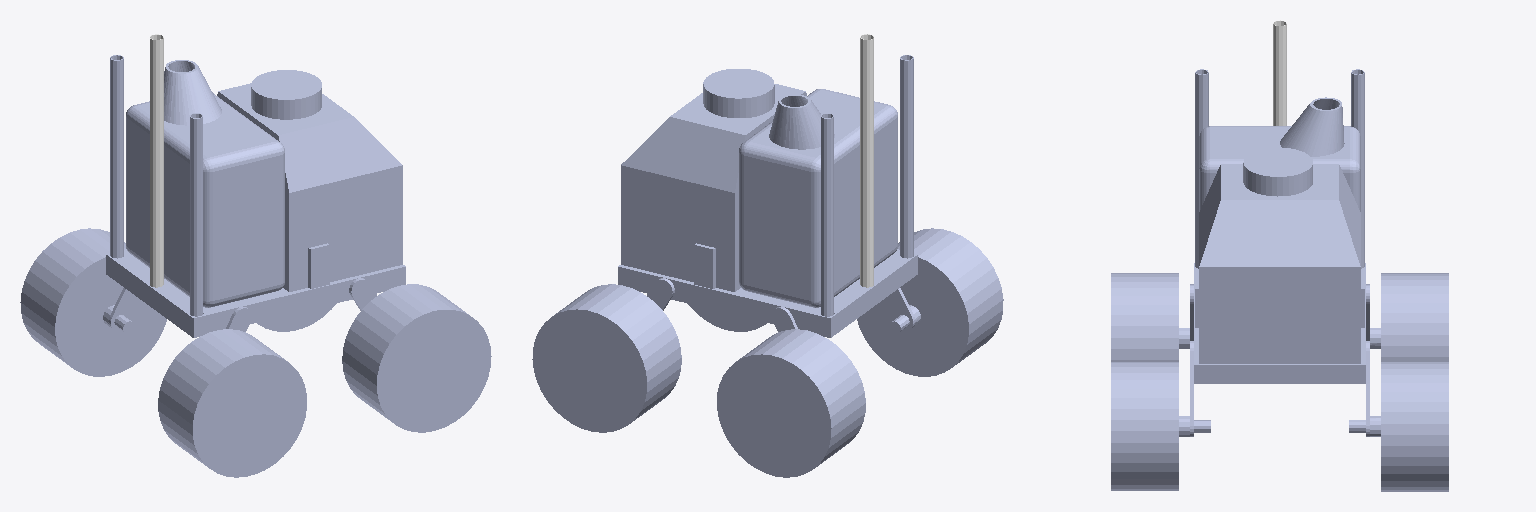
The robot description file, URDF, robot "robot":
<?xml version="1.0"?>
<!-- This URDF was automatically created by SolidWorks to URDF Exporter! Originally created by [author] ([email redacted]) 
     Commit Version: 1.6.0-4-g7f85cfe  Build Version: 1.6.7995.38578
     For more information, please see http://wiki.ros.org/sw_urdf_exporter -->
<robot name="robot">
  <link
    name="base_link">
    <inertial>
      <origin
        xyz="-0.011623 0.00031297 0.03414"
        rpy="0 0 0" />
      <mass
        value="1.03" />
      <inertia
        ixx="0.0031032"
        ixy="3.2221E-10"
        ixz="7.7859E-06"
        iyy="0.004193"
        iyz="-3.2649E-05"
        izz="0.0055868" />
    </inertial>
    <visual>
      <origin
        xyz="0 0 0"
        rpy="0 0 0" />
      <geometry>
        <mesh
          filename="package://modelo_robot/meshes/base_link.STL" />
      </geometry>
      <material
        name="">
        <color
          rgba="0.79216 0.81961 0.93333 1" />
      </material>
    </visual>
    <collision>
      <origin
        xyz="0 0 0"
        rpy="0 0 0" />
      <geometry>
        <mesh
          filename="package://modelo_robot/meshes/base_link.STL" />
      </geometry>
    </collision>
  </link>
  
  <gazebo reference="base_link">
    <mu1>0.001</mu1>
    <mu2>0.001</mu2>
    <kp>1000000</kp>
    <kd>1</kd>
    <material>Gazebo/Yellow</material>
  </gazebo>
  
  <link
    name="rueda_izq_delantera_link">
    <inertial>
      <origin
        xyz="0 0 -0.00031672"
        rpy="0 0 0" />
      <mass
        value="0.72984" />
      <inertia
        ixx="0.00091283"
        ixy="-8.021E-20"
        ixz="-4.0426E-21"
        iyy="0.00091283"
        iyz="-1.7102E-20"
        izz="0.001326" />
    </inertial>
    <visual>
      <origin
        xyz="0 0 0"
        rpy="0 0 0" />
      <geometry>
        <mesh
          filename="package://modelo_robot/meshes/rueda_izq_delantera_link.STL" />
      </geometry>
      <material
        name="">
        <color
          rgba="0.79216 0.81961 0.93333 1" />
      </material>
    </visual>
    <collision>
      <origin
        xyz="0 0 0"
        rpy="0 0 0" />
      <geometry>
        <mesh
          filename="package://modelo_robot/meshes/rueda_izq_delantera_link.STL" />
      </geometry>
    </collision>
  </link>
  <joint
    name="rueda_izq_delantera_joint"
    type="continuous">
    <origin
      xyz="0.097 0.1255 -0.050622"
      rpy="1.5708 0 3.1416" />
    <parent
      link="base_link" />
    <child
      link="rueda_izq_delantera_link" />
    <axis
      xyz="0 0 1" />
    <limit
      effort="100"
      velocity="100" />
    <dynamics
      damping="0.1"
      friction="0.1" />
  </joint>
  
  <gazebo reference="rueda_izq_delantera_link">
    <mu1>0.001</mu1>
    <mu2>0.001</mu2>
    <kp>1000000</kp>
    <kd>1</kd>
    <material>Gazebo/Gray</material>
  </gazebo>
  
  <link
    name="rueda_izq_trasera_link">
    <inertial>
      <origin
        xyz="0 0 -0.00031672"
        rpy="0 0 0" />
      <mass
        value="0.72984" />
      <inertia
        ixx="0.00091283"
        ixy="5.3323E-20"
        ixz="-7.9882E-20"
        iyy="0.00091283"
        iyz="3.104E-21"
        izz="0.001326" />
    </inertial>
    <visual>
      <origin
        xyz="0 0 0"
        rpy="0 0 0" />
      <geometry>
        <mesh
          filename="package://modelo_robot/meshes/rueda_izq_trasera_link.STL" />
      </geometry>
      <material
        name="">
        <color
          rgba="0.79216 0.81961 0.93333 1" />
      </material>
    </visual>
    <collision>
      <origin
        xyz="0 0 0"
        rpy="0 0 0" />
      <geometry>
        <mesh
          filename="package://modelo_robot/meshes/rueda_izq_trasera_link.STL" />
      </geometry>
    </collision>
  </link>
  
  <gazebo reference="rueda_izq_trasera_link">
    <mu1>0.001</mu1>
    <mu2>0.001</mu2>
    <kp>1000000</kp>
    <kd>1</kd>
    <material>Gazebo/Gray</material>
  </gazebo>
  
  <joint
    name="rueda_izq_trasera_joint"
    type="continuous">
    <origin
      xyz="-0.097 0.1255 -0.050622"
      rpy="1.5708 0 3.1416" />
    <parent
      link="base_link" />
    <child
      link="rueda_izq_trasera_link" />
    <axis
      xyz="0 0 1" />
    <limit
      effort="100"
      velocity="100" />
    <dynamics
      damping="0.1"
      friction="0.1" />
  </joint>
  <link
    name="rueda_der_delantera_link">
    <inertial>
      <origin
        xyz="0 0 0.00031672"
        rpy="0 0 0" />
      <mass
        value="0.72984" />
      <inertia
        ixx="0.00091283"
        ixy="-2.8979E-21"
        ixz="-1.0167E-19"
        iyy="0.00091283"
        iyz="-2.7079E-20"
        izz="0.001326" />
    </inertial>
    <visual>
      <origin
        xyz="0 0 0"
        rpy="0 0 0" />
      <geometry>
        <mesh
          filename="package://modelo_robot/meshes/rueda_der_delantera_link.STL" />
      </geometry>
      <material
        name="">
        <color
          rgba="0.79216 0.81961 0.93333 1" />
      </material>
    </visual>
    <collision>
      <origin
        xyz="0 0 0"
        rpy="0 0 0" />
      <geometry>
        <mesh
          filename="package://modelo_robot/meshes/rueda_der_delantera_link.STL" />
      </geometry>
    </collision>
  </link>
  
  <gazebo reference="rueda_der_delantera_link">
    <mu1>0.001</mu1>
    <mu2>0.001</mu2>
    <kp>1000000</kp>
    <kd>1</kd>
    <material>Gazebo/Gray</material>
  </gazebo>
  
  <joint
    name="rueda_der_delantera_joint"
    type="continuous">
    <origin
      xyz="0.097 -0.1255 -0.050622"
      rpy="1.5708 0 3.1416" />
    <parent
      link="base_link" />
    <child
      link="rueda_der_delantera_link" />
    <axis
      xyz="0 0 1" />
    <limit
      effort="100"
      velocity="100" />
    <dynamics
      damping="0.1"
      friction="0.1" />
  </joint>
  
  <link
    name="rueda_der_trasera_link">
    <inertial>
      <origin
        xyz="0 0 0.00031672"
        rpy="0 0 0" />
      <mass
        value="0.72984" />
      <inertia
        ixx="0.00091283"
        ixy="2.3222E-20"
        ixz="-6.9829E-20"
        iyy="0.00091283"
        iyz="6.4782E-20"
        izz="0.001326" />
    </inertial>
    <visual>
      <origin
        xyz="0 0 0"
        rpy="0 0 0" />
      <geometry>
        <mesh
          filename="package://modelo_robot/meshes/rueda_der_trasera_link.STL" />
      </geometry>
      <material
        name="">
        <color
          rgba="0.79216 0.81961 0.93333 1" />
      </material>
    </visual>
    <collision>
      <origin
        xyz="0 0 0"
        rpy="0 0 0" />
      <geometry>
        <mesh
          filename="package://modelo_robot/meshes/rueda_der_trasera_link.STL" />
      </geometry>
    </collision>
  </link>
  
  <gazebo reference="rueda_der_trasera_link">
    <mu1>0.001</mu1>
    <mu2>0.001</mu2>
    <kp>1000000</kp>
    <kd>1</kd>
    <material>Gazebo/Gray</material>
  </gazebo>
  
  <joint
    name="rueda_der_trasera_joint"
    type="continuous">
    <origin
      xyz="-0.097 -0.1255 -0.050622"
      rpy="1.5708 0 3.1416" />
    <parent
      link="base_link" />
    <child
      link="rueda_der_trasera_link" />
    <axis
      xyz="0 0 1" />
    <limit
      effort="100"
      velocity="100" />
    <dynamics
      damping="0.1"
      friction="0.1" />
  </joint>
  <link
    name="apersor_link">
    <inertial>
      <origin
        xyz="0 0 0"
        rpy="0 0 0" />
      <mass
        value="0.3" />
      <inertia
        ixx="0.001"
        ixy="0"
        ixz="0"
        iyy="0.001"
        iyz="0"
        izz="0.001" />
    </inertial>
    <visual>
      <origin
        xyz="0 0 0"
        rpy="0 0 0" />
      <geometry>
        <mesh
          filename="package://modelo_robot/meshes/apersor_link.STL" />
      </geometry>
      <material
        name="">
        <color
          rgba="1 1 1 1" />
      </material>
    </visual>
    <collision>
      <origin
        xyz="0 0 0"
        rpy="0 0 0" />
      <geometry>
        <mesh
          filename="package://modelo_robot/meshes/apersor_link.STL" />
      </geometry>
    </collision>
  </link>
  <joint
    name="aspersor_joint"
    type="revolute">
    <origin
      xyz="-0.1045 0 0.019"
      rpy="1.5708 0 3.1416" />
    <parent
      link="base_link" />
    <child
      link="apersor_link" />
    <axis
      xyz="0 0 1" />
    <limit
      lower="0"
      upper="0"
      effort="0"
      velocity="100" />
    <dynamics
      damping="0.1"
      friction="0.1" />
  </joint>
  <link name="lindar_link">
    <inertial>
      <origin xyz="-2.7756E-17 0.01 0" rpy="0 0 0" />
      <mass value="0.066366" />
      <inertia
        ixx="1.9737E-05"
        ixy="-2.8234E-22"
        ixz="-2.8411E-21"
        iyy="3.505E-05"
        iyz="-1.4117E-22"
        izz="1.9737E-05" />
    </inertial>
    <visual>
      <origin xyz="0 0 0" rpy="0 0 0" />
      <geometry>
        <mesh filename="package://modelo_robot/meshes/lindar_link.STL" />
      </geometry>
      <material name="">
        <color rgba="0.79216 0.81961 0.93333 1" />
      </material>
    </visual>
    <collision>
      <origin xyz="0 0 0" rpy="0 0 0" />
      <geometry>
        <mesh filename="package://modelo_robot/meshes/lindar_link.STL" />
      </geometry>
    </collision>
  </link>
  
  <gazebo reference="lindar_link">
    <material>Gazebo/Blue</material>
  </gazebo>
  
  <joint name="lidar_frame" type="fixed">
    <origin xyz="0.031539 -0.0015685 0.17" rpy="1.5708 0 3.1416" />
    <parent link="base_link" />
    <child link="lindar_link" />
    <axis xyz="0 0 0" />
  </joint>


    <!-- Gazebo Plugins -->
    <gazebo>
        <plugin name="diff_drive" filename="libgazebo_ros_diff_drive.so">
            <update_rate>100</update_rate>
            <num_wheel_pairs>2</num_wheel_pairs>
            <!-- Wheel Information -->
            <left_joint>rueda_izq_trasera_joint</left_joint>
            <left_joint>rueda_izq_delantera_joint</left_joint>
            <right_joint>rueda_der_trasera_joint</right_joint>
            <right_joint>rueda_der_delantera_joint</right_joint>
            <wheel_separation>0.20</wheel_separation>
            <wheel_radius>0.122</wheel_radius>

            <!-- Limits -->
            <max_linear_acceleration>5</max_linear_acceleration>
            <min_linear_acceleration>-5</min_linear_acceleration>
            <max_angular_acceleration>4</max_angular_acceleration>
            <min_angular_acceleration>-4</min_angular_acceleration>

            <!-- Receive velocity commands on this ROS topic -->
            <command_topic>cmd_vel</command_topic>
      
            <!-- output -->
            <!-- When false, publish no wheel odometry data to a ROS topic -->
            <publish_odom>true</publish_odom>
      
            <!-- When true, publish coordinate transform from odom to base_footprint -->
            <!-- I usually use the robot_localization package to publish this transform -->  
            <publish_odom_tf>true</publish_odom_tf>
          
            <!-- When true, publish coordinate transform from base_link to the wheels -->
            <!-- The robot_state_publisher package is often used to publish this transform -->  
            <publish_wheel_tf>true</publish_wheel_tf>
      
            <odometry_topic>odom</odometry_topic>
            <odometry_frame>odom_link</odometry_frame>
            <robot_base_frame>base_link</robot_base_frame>
        </plugin>
    </gazebo>


</robot>

--- Facts derived from the render (not from the file) ---
Views: 3 orthographic renders of the robot side by side, from view 1: azimuth 30°, elevation 25°; view 2: azimuth 150°, elevation 25°; view 3: azimuth 270°, elevation 25°.
Model robot with 7 links and 6 joints (1 revolute, 4 continuous, 1 fixed), rooted at base_link, posed every joint at zero.
Visible links, largest first — view 1: base_link, rueda_der_trasera_link, rueda_der_delantera_link, rueda_izq_trasera_link, apersor_link, lindar_link, rueda_izq_delantera_link; view 2: base_link, rueda_izq_delantera_link, rueda_izq_trasera_link, rueda_der_trasera_link, apersor_link, lindar_link, rueda_der_delantera_link; view 3: base_link, rueda_izq_delantera_link, rueda_der_delantera_link, rueda_izq_trasera_link, rueda_der_trasera_link, lindar_link, apersor_link.
Boxes of the visible links, x1,y1,x2,y2 form: base_link: (106,55,405,337); rueda_der_trasera_link: (158,329,306,477); rueda_der_delantera_link: (342,284,491,432); rueda_izq_trasera_link: (20,228,166,376); apersor_link: (150,34,163,287); lindar_link: (251,70,321,119); rueda_izq_delantera_link: (257,303,336,331); base_link: (618,55,917,337); rueda_izq_delantera_link: (532,284,681,432); rueda_izq_trasera_link: (717,329,865,477); rueda_der_trasera_link: (857,228,1003,376); apersor_link: (860,34,873,287); lindar_link: (703,69,774,117); rueda_der_delantera_link: (687,303,766,331); base_link: (1190,69,1369,436); rueda_izq_delantera_link: (1349,362,1448,491); rueda_der_delantera_link: (1111,362,1210,490); rueda_izq_trasera_link: (1370,273,1448,361); rueda_der_trasera_link: (1111,273,1189,361); lindar_link: (1243,147,1312,196); apersor_link: (1273,20,1286,125).
Size in the robot's own frame: 0.315 by 0.314 by 0.3801 metres.
Meshes: 7 distinct files referenced, 7 mesh visuals loaded (7 binary STL).
